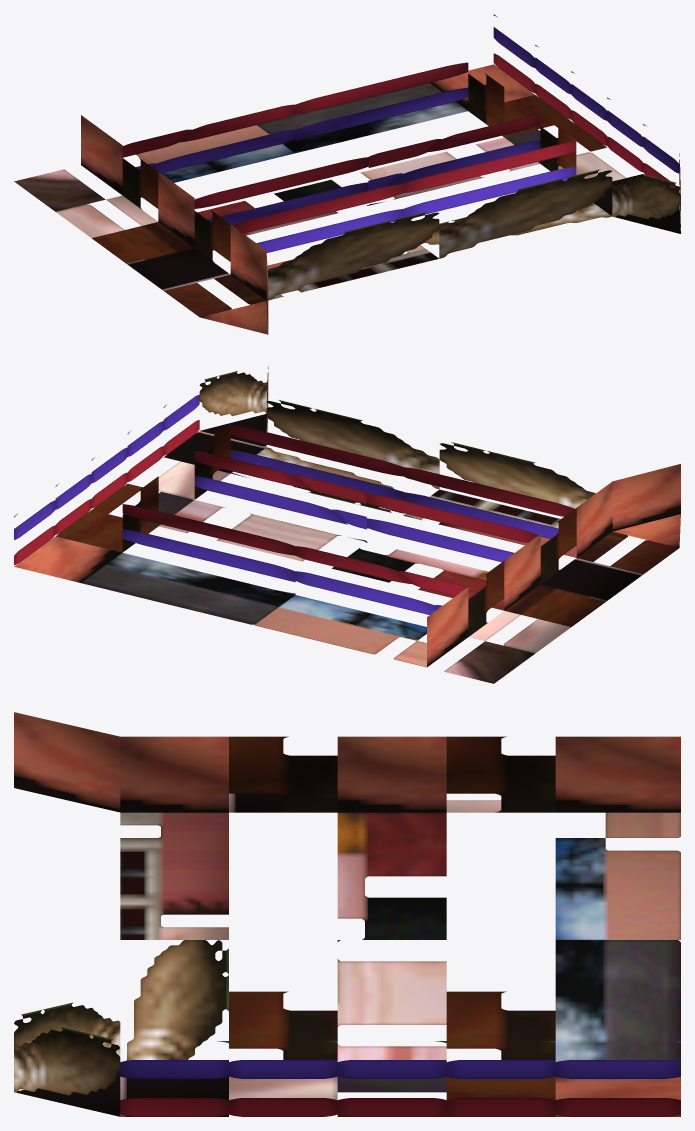
3 views of the same model, one above another, from view 1: azimuth 30°, elevation 25°; view 2: azimuth 150°, elevation 25°; view 3: azimuth 270°, elevation 25° (orthographic). The views are drawn at different scales.
Visible parts, largest first — view 1: T1L2M001_11; view 2: T1L2M001_11; view 3: T1L2M001_11.
Part boxes in pixels (x1,y1,x2,y2): T1L2M001_11: (14,14,680,334); T1L2M001_11: (14,366,680,683); T1L2M001_11: (14,712,680,1116).
Bounding box in the file's own units: 2 × 0.2002 × 1.59.
